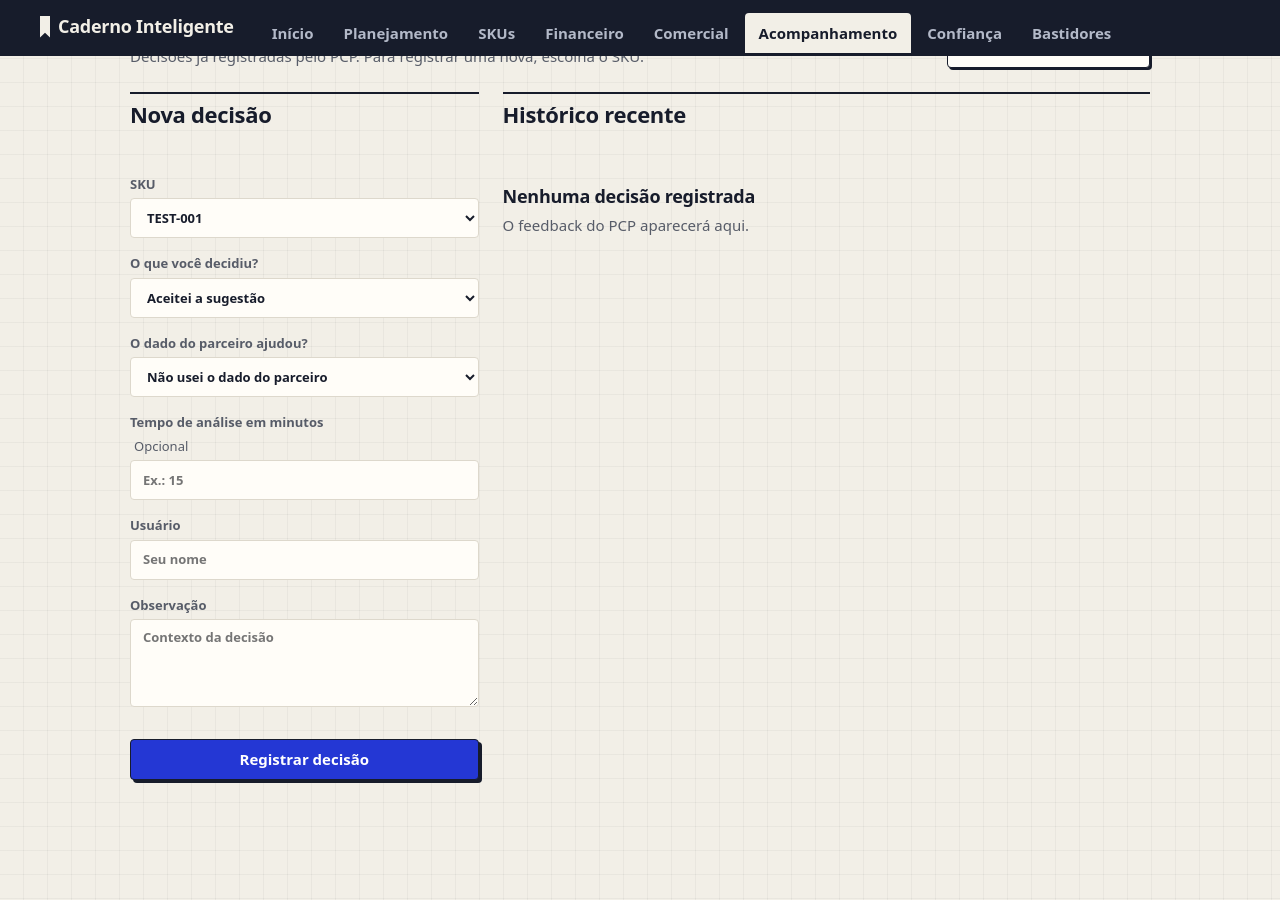
modo da publicação › 403 do servidor é exibido mesmo se a interface não souber do modo
(page scrolled)
Click the button "Registrar decisão": [304, 760] box [130,739,479,780]
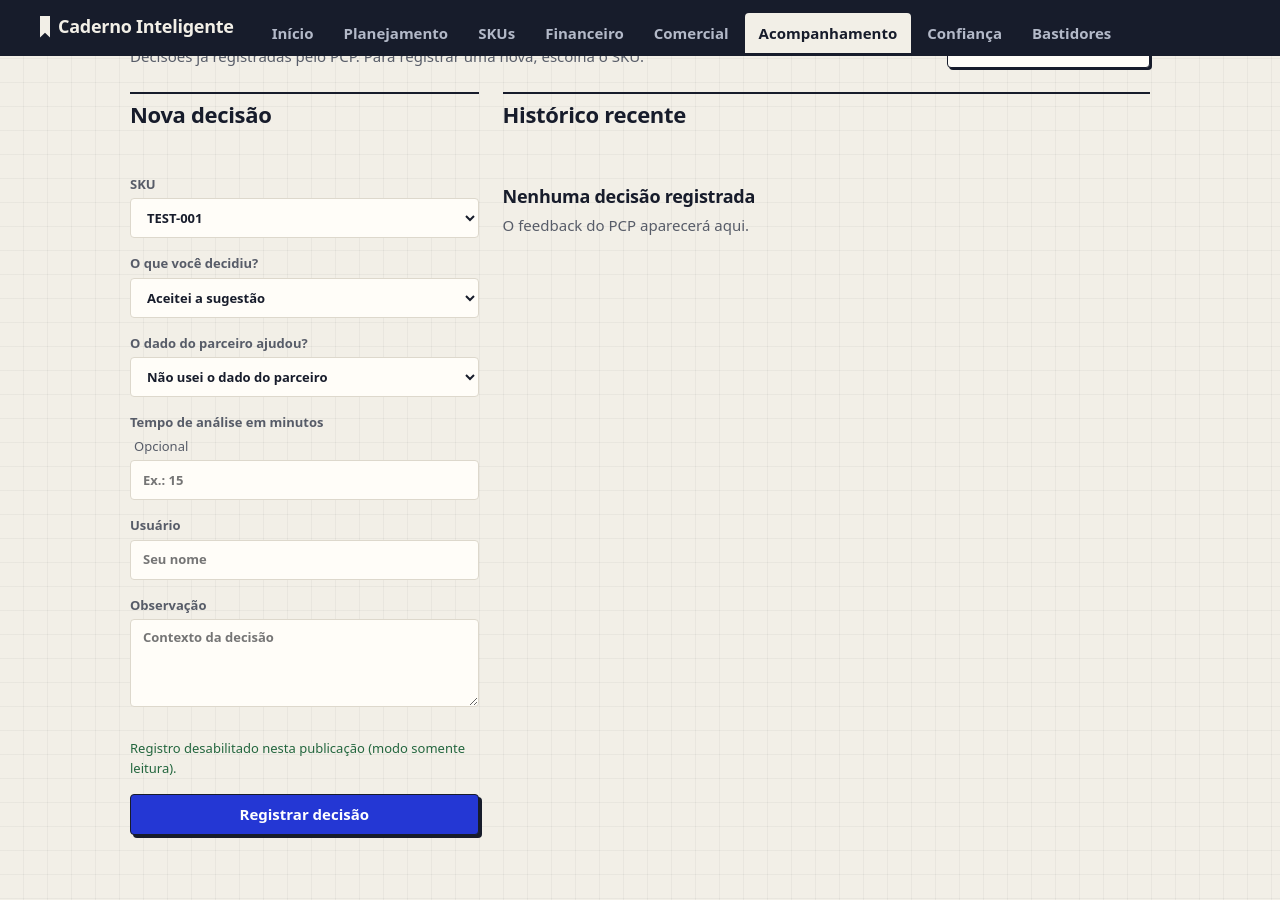
Result: the text "Registro desabilitado nesta publicação (modo somente leitura)." is shown at [130,739,479,778]
